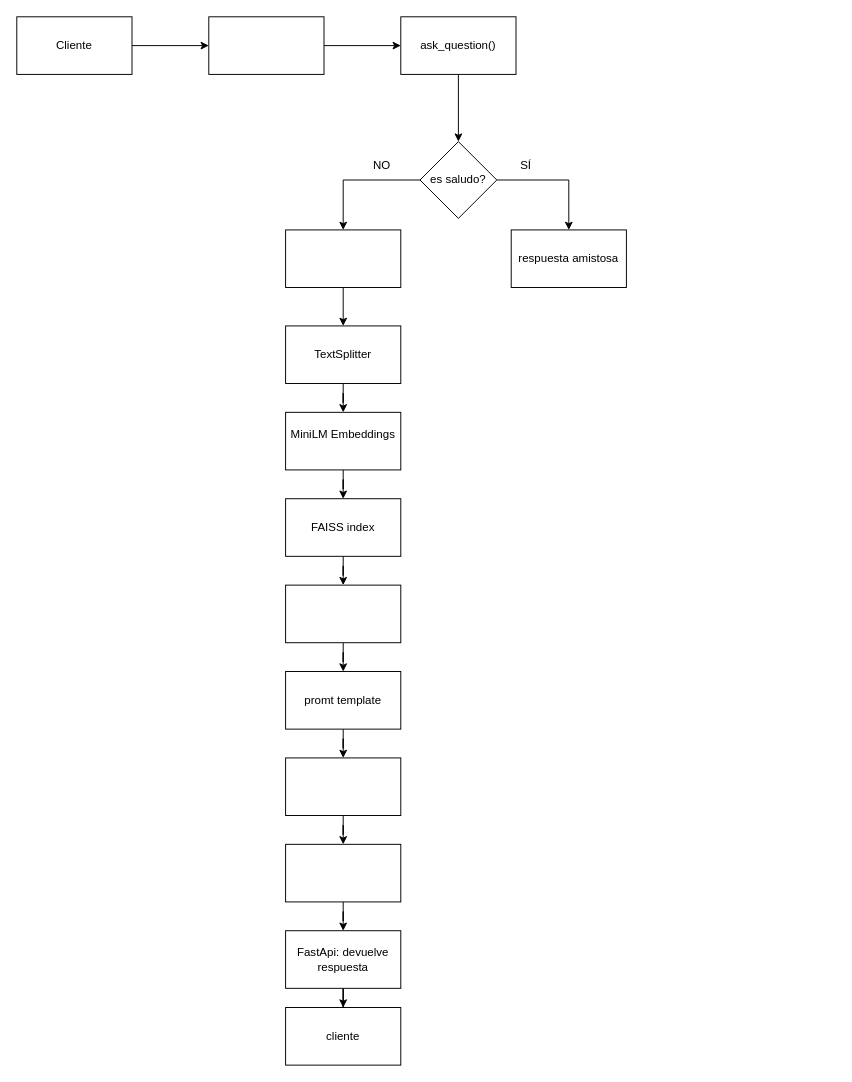
Image size: 852x1082. Some labels were removed from this diagram. Each missing label, with the centre of its shape:
FastApi: point (266, 45)
invoke - Mixtral: point (343, 786)
post procesamiento: point (343, 872)
PyPDFLoader: point (343, 258)
Retrieval (chunks): point (343, 613)
